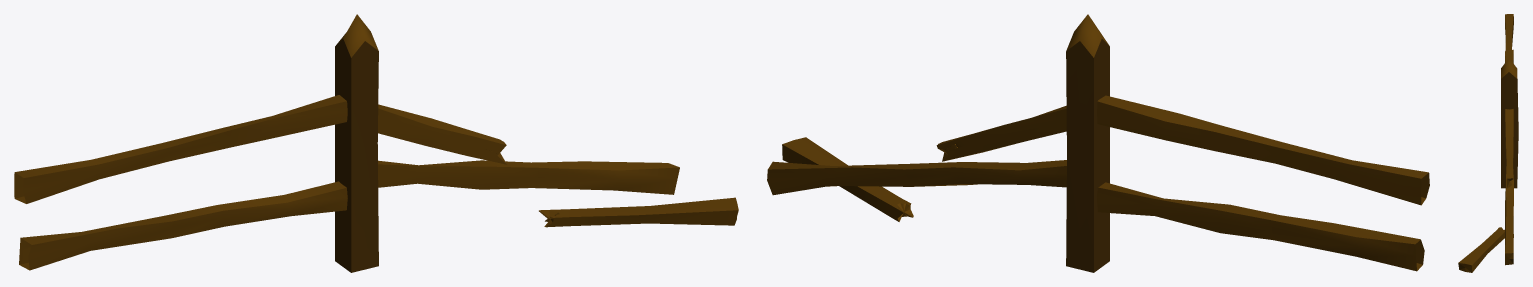
Rendered from Fence_broken tile.fbx.
The picture shows the model from 3 angles, left to right: view 1: azimuth 30°, elevation 25°; view 2: azimuth 150°, elevation 25°; view 3: azimuth 270°, elevation 25°; orthographic projection. The views are drawn at different scales.
Visible parts, largest first — view 1: polySurface158, polySurface157, polySurface159, polySurface154, polySurface160, polySurface156; view 2: polySurface158, polySurface159, polySurface157, polySurface154, polySurface156, polySurface160; view 3: polySurface158, polySurface154, polySurface160, polySurface156, polySurface159.
Part boxes in pixels (<box>): polySurface158: <box>335,14,378,272</box>; polySurface157: <box>19,181,347,270</box>; polySurface159: <box>14,95,347,203</box>; polySurface154: <box>378,160,679,194</box>; polySurface160: <box>539,197,738,227</box>; polySurface156: <box>378,104,506,164</box>; polySurface158: <box>1066,14,1109,272</box>; polySurface159: <box>1097,95,1429,205</box>; polySurface157: <box>1097,182,1424,271</box>; polySurface154: <box>767,160,1066,195</box>; polySurface156: <box>936,105,1066,161</box>; polySurface160: <box>782,137,913,221</box>; polySurface158: <box>1501,58,1518,188</box>; polySurface154: <box>1505,140,1514,265</box>; polySurface160: <box>1458,227,1504,272</box>; polySurface156: <box>1504,109,1514,188</box>; polySurface159: <box>1505,14,1513,61</box>.
Bounding box in the file's own units: 28.02 × 10.07 × 4.23.
